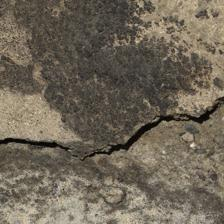Crack: (4, 97, 219, 166)
